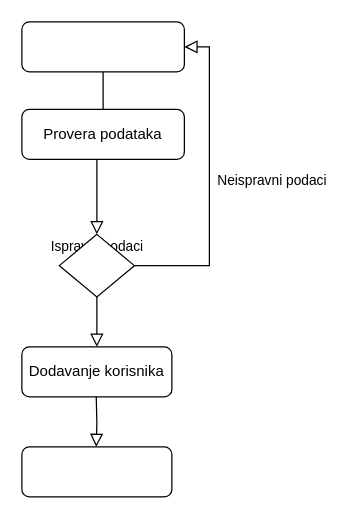
The diagram is 348 pixels wide and 519 high, and some of its shapes have lost their labels. The box of each missing label's shape, as (x1, y1, x2, y2) in pixels:
Redirekcija na stranicu za prijavu: (21, 446, 172, 497)
Registracija korisnika: (21, 21, 184, 72)
